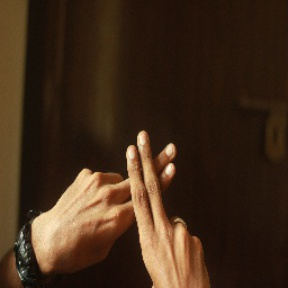F: (101, 113, 203, 269)
